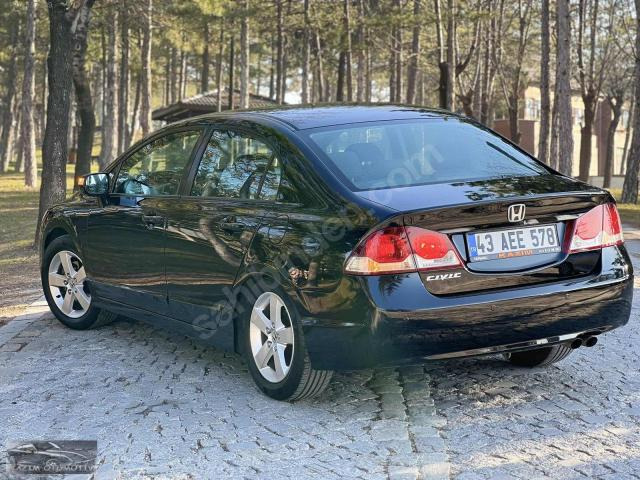plaka: (467, 224, 562, 262)
